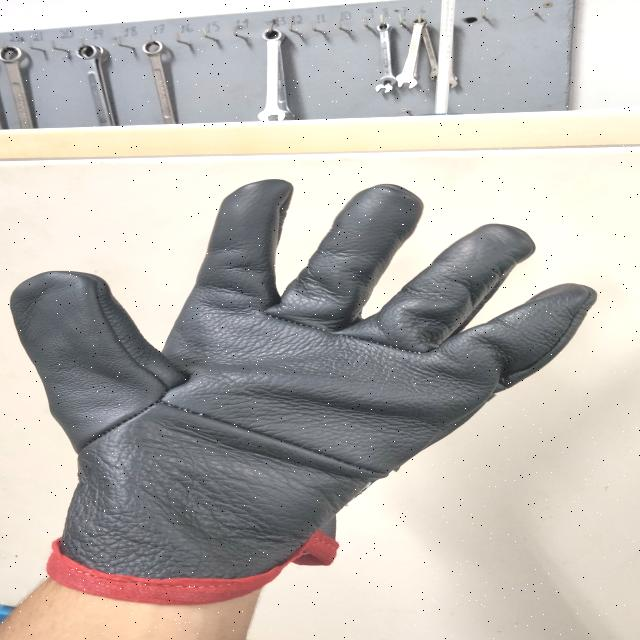Gloves: (18, 174, 590, 598)
